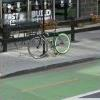Bicycle: (27, 19, 74, 59)
